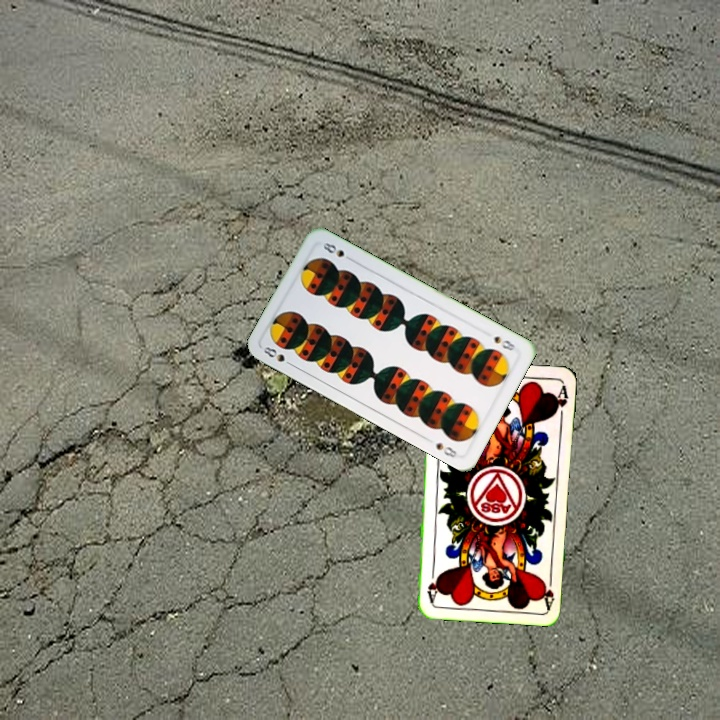HA: (539, 569, 557, 610)
S8: (258, 342, 297, 369), (490, 332, 518, 353)
